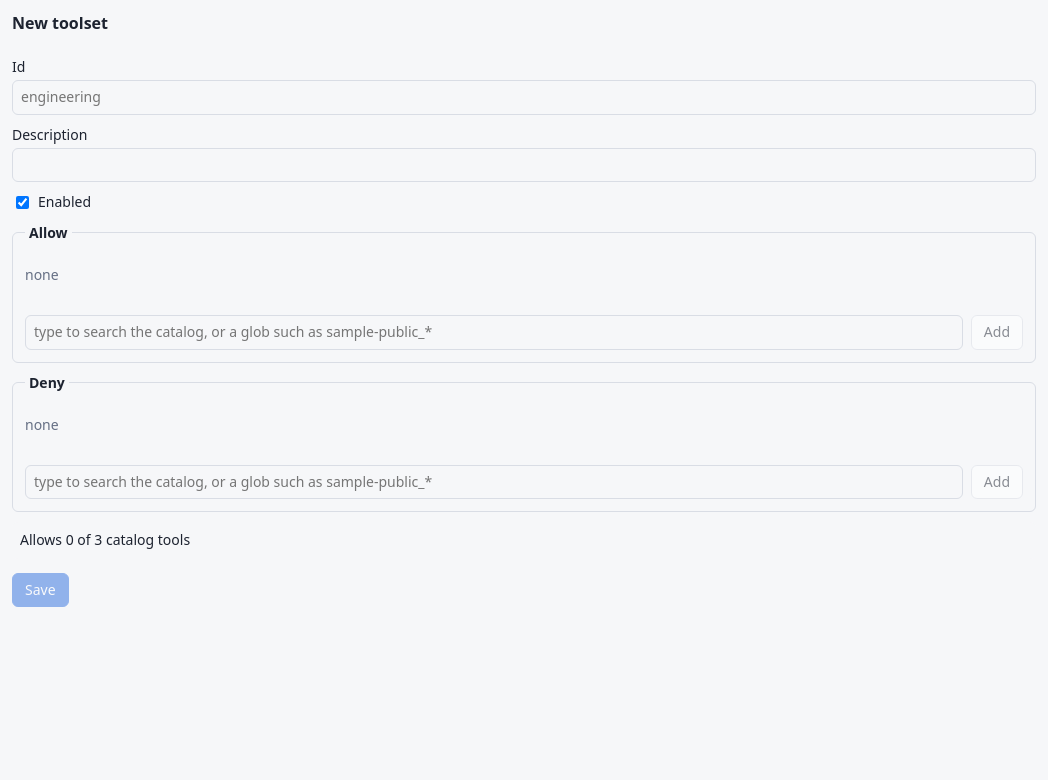
Test: ToolsetForm › picks tools from the catalog, applies deny and saves the document
Type "eng" into the field labelled "Id" at (524, 98), box [12,80,1036,115]
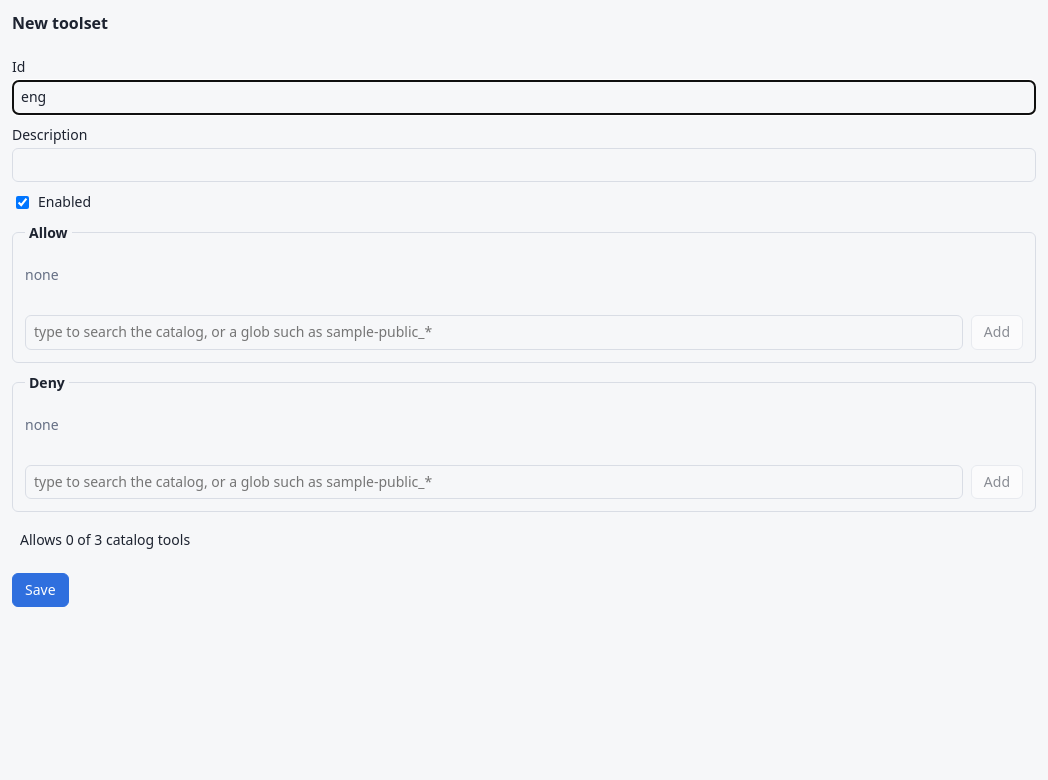
Type "sample-*" into the field named "Allow pattern" at (494, 332), box [25,315,963,350]
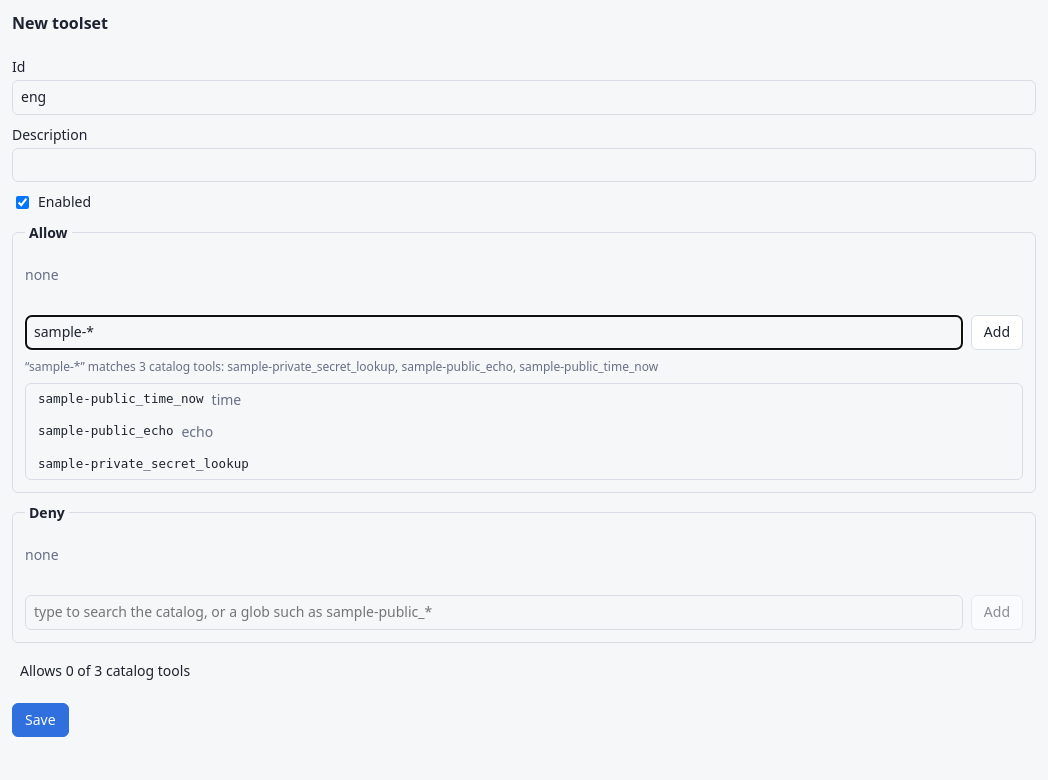
Press Enter
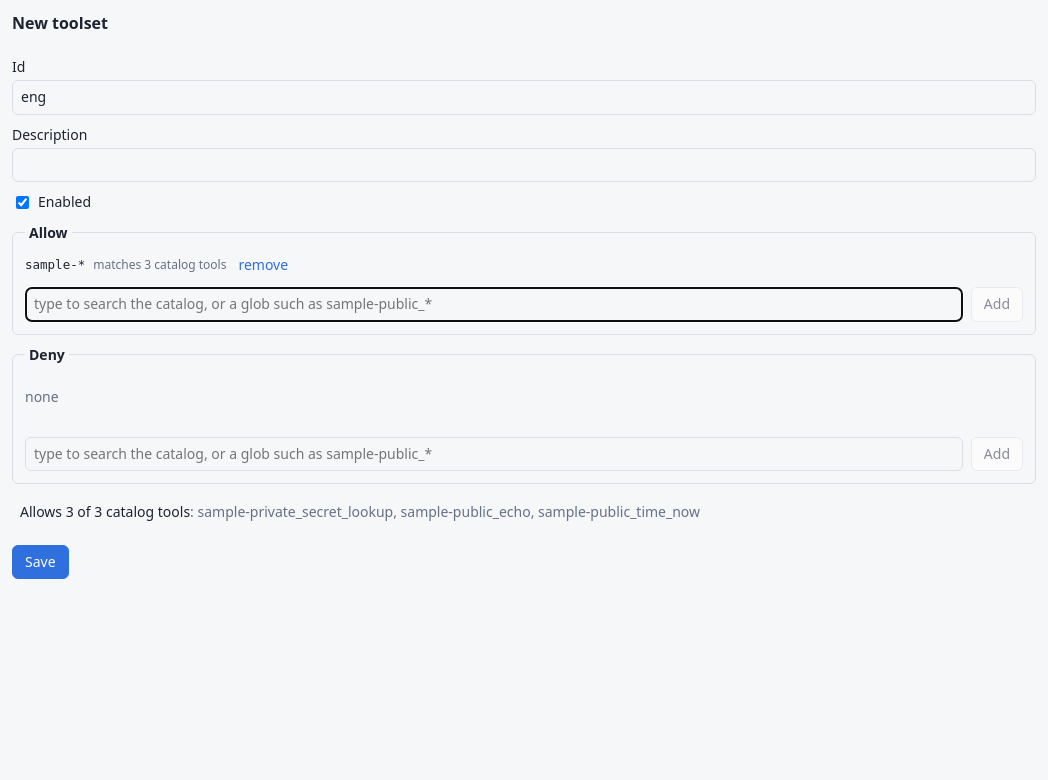
Type "secret" into the field named "Deny pattern" at (494, 454), box [25,437,963,472]
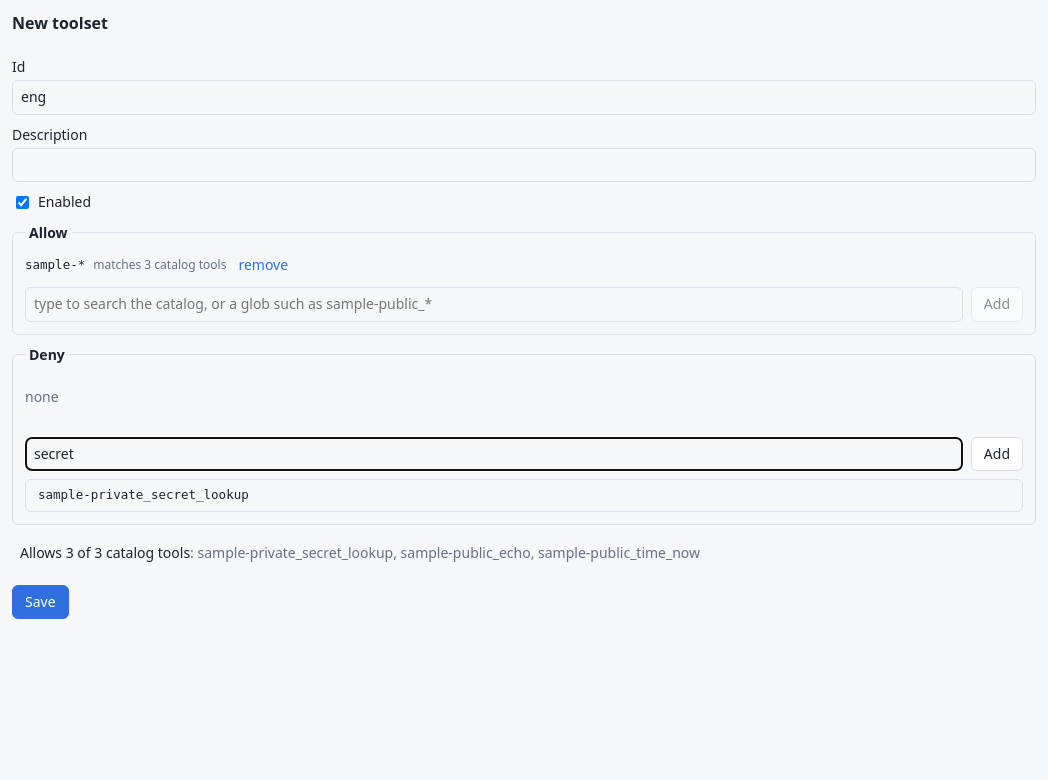
Click the button "sample-private_secret_lookup" at (143, 495), box [26,480,1022,511]
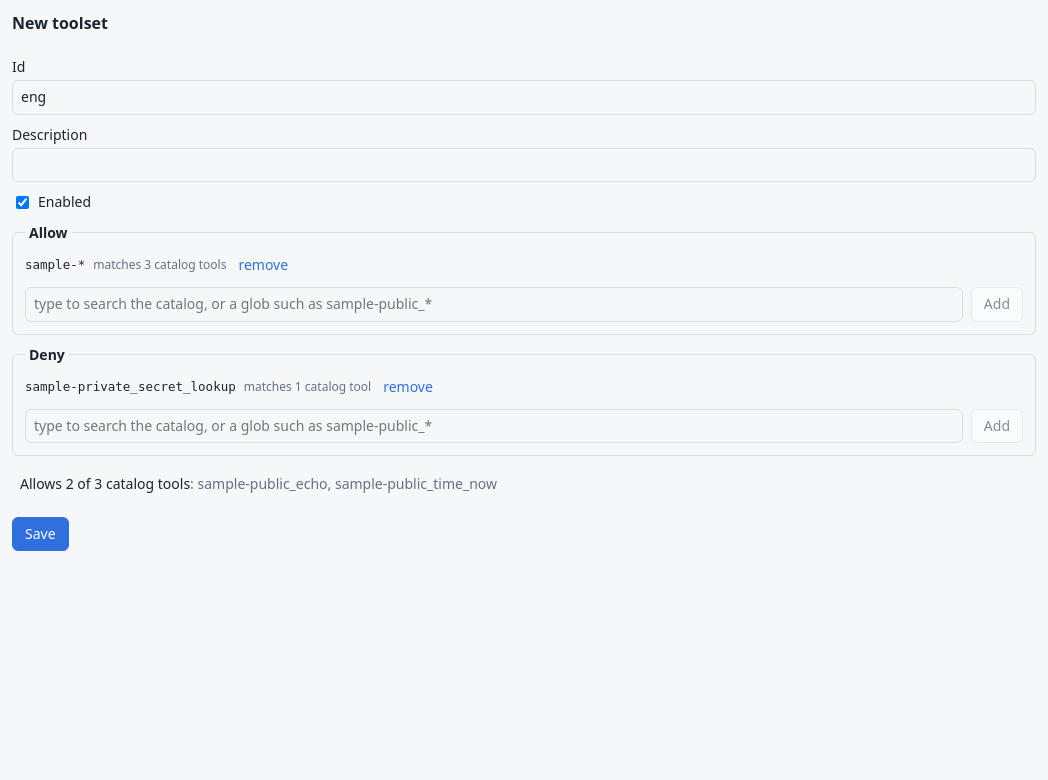
expect the element with test id "effective" shows "Allows 2 of 3": met, box [12,466,1036,503]
Click the button "Save" at (40, 534), box [12,517,69,551]
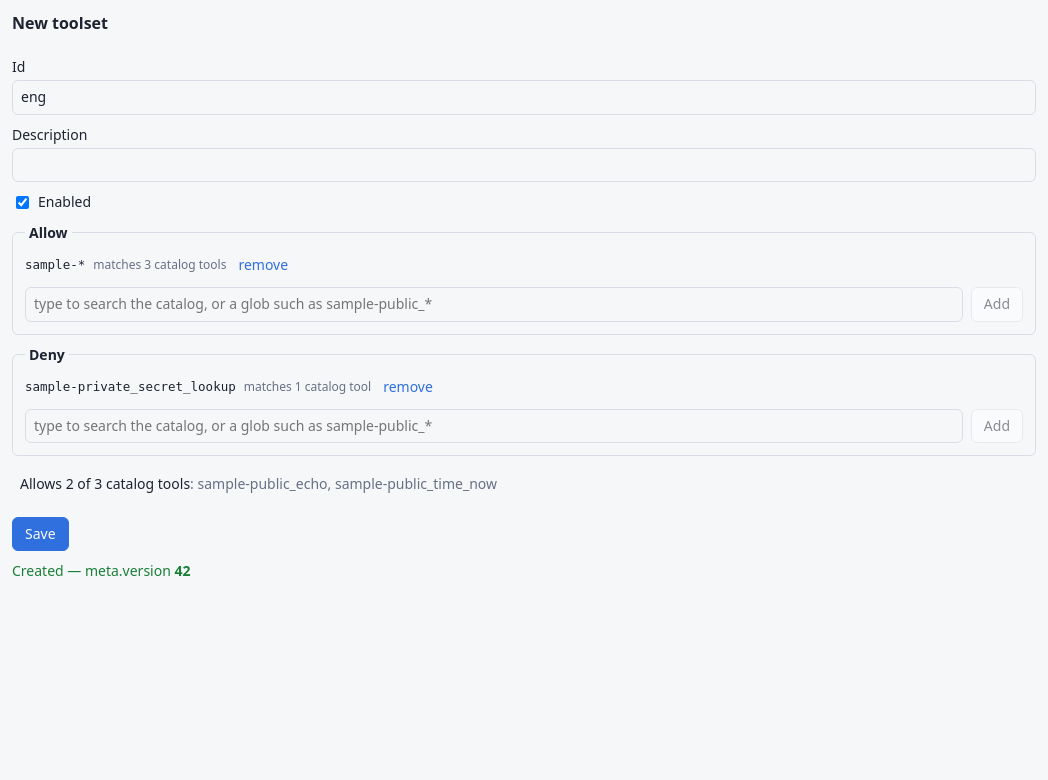
expect the text with test id "meta-version" reads "42": met, box [174,561,190,580]
